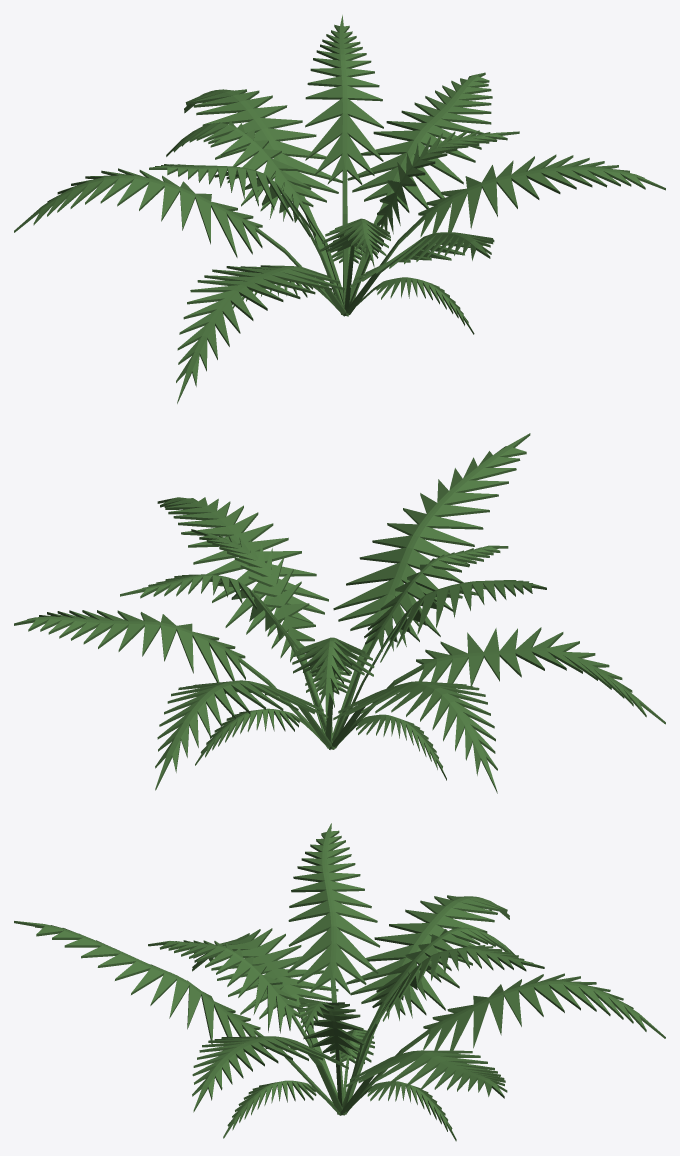
The model's file is Paporotnic2.fbx.
3 renders of one model, top to bottom at view 1: azimuth 30°, elevation 25°; view 2: azimuth 150°, elevation 25°; view 3: azimuth 270°, elevation 25°, orthographic. The views are drawn at different scales.
Parts seen in each view (by area): view 1: Paporotnic; view 2: Paporotnic; view 3: Paporotnic.
Part boxes in pixels (x1,y1,x2,y2): Paporotnic: [14, 15, 665, 403]; Paporotnic: [14, 433, 665, 793]; Paporotnic: [14, 823, 665, 1141].
Size of the model in its own units: 90.64 by 35.51 by 107.
